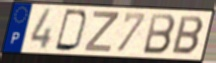4: (28, 7, 54, 51)
7: (116, 11, 147, 55)
B: (141, 12, 177, 56), (170, 15, 205, 57)
D: (53, 8, 90, 53)
Z: (82, 10, 120, 54)
